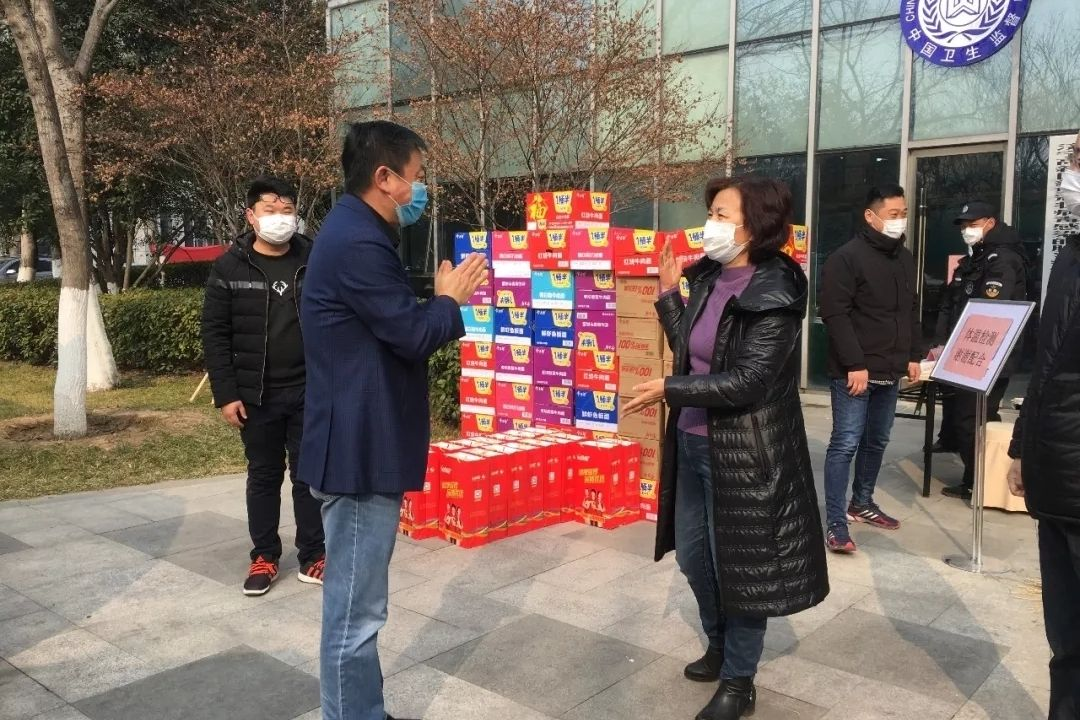Mask: (374, 147, 432, 229), (700, 190, 754, 263), (254, 193, 295, 249), (870, 189, 910, 241), (959, 208, 997, 250)
